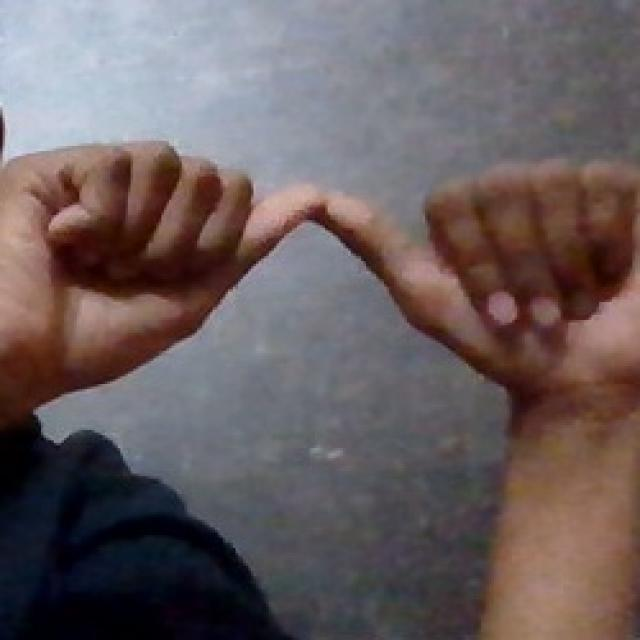Alphabet-A: (7, 138, 630, 394)
